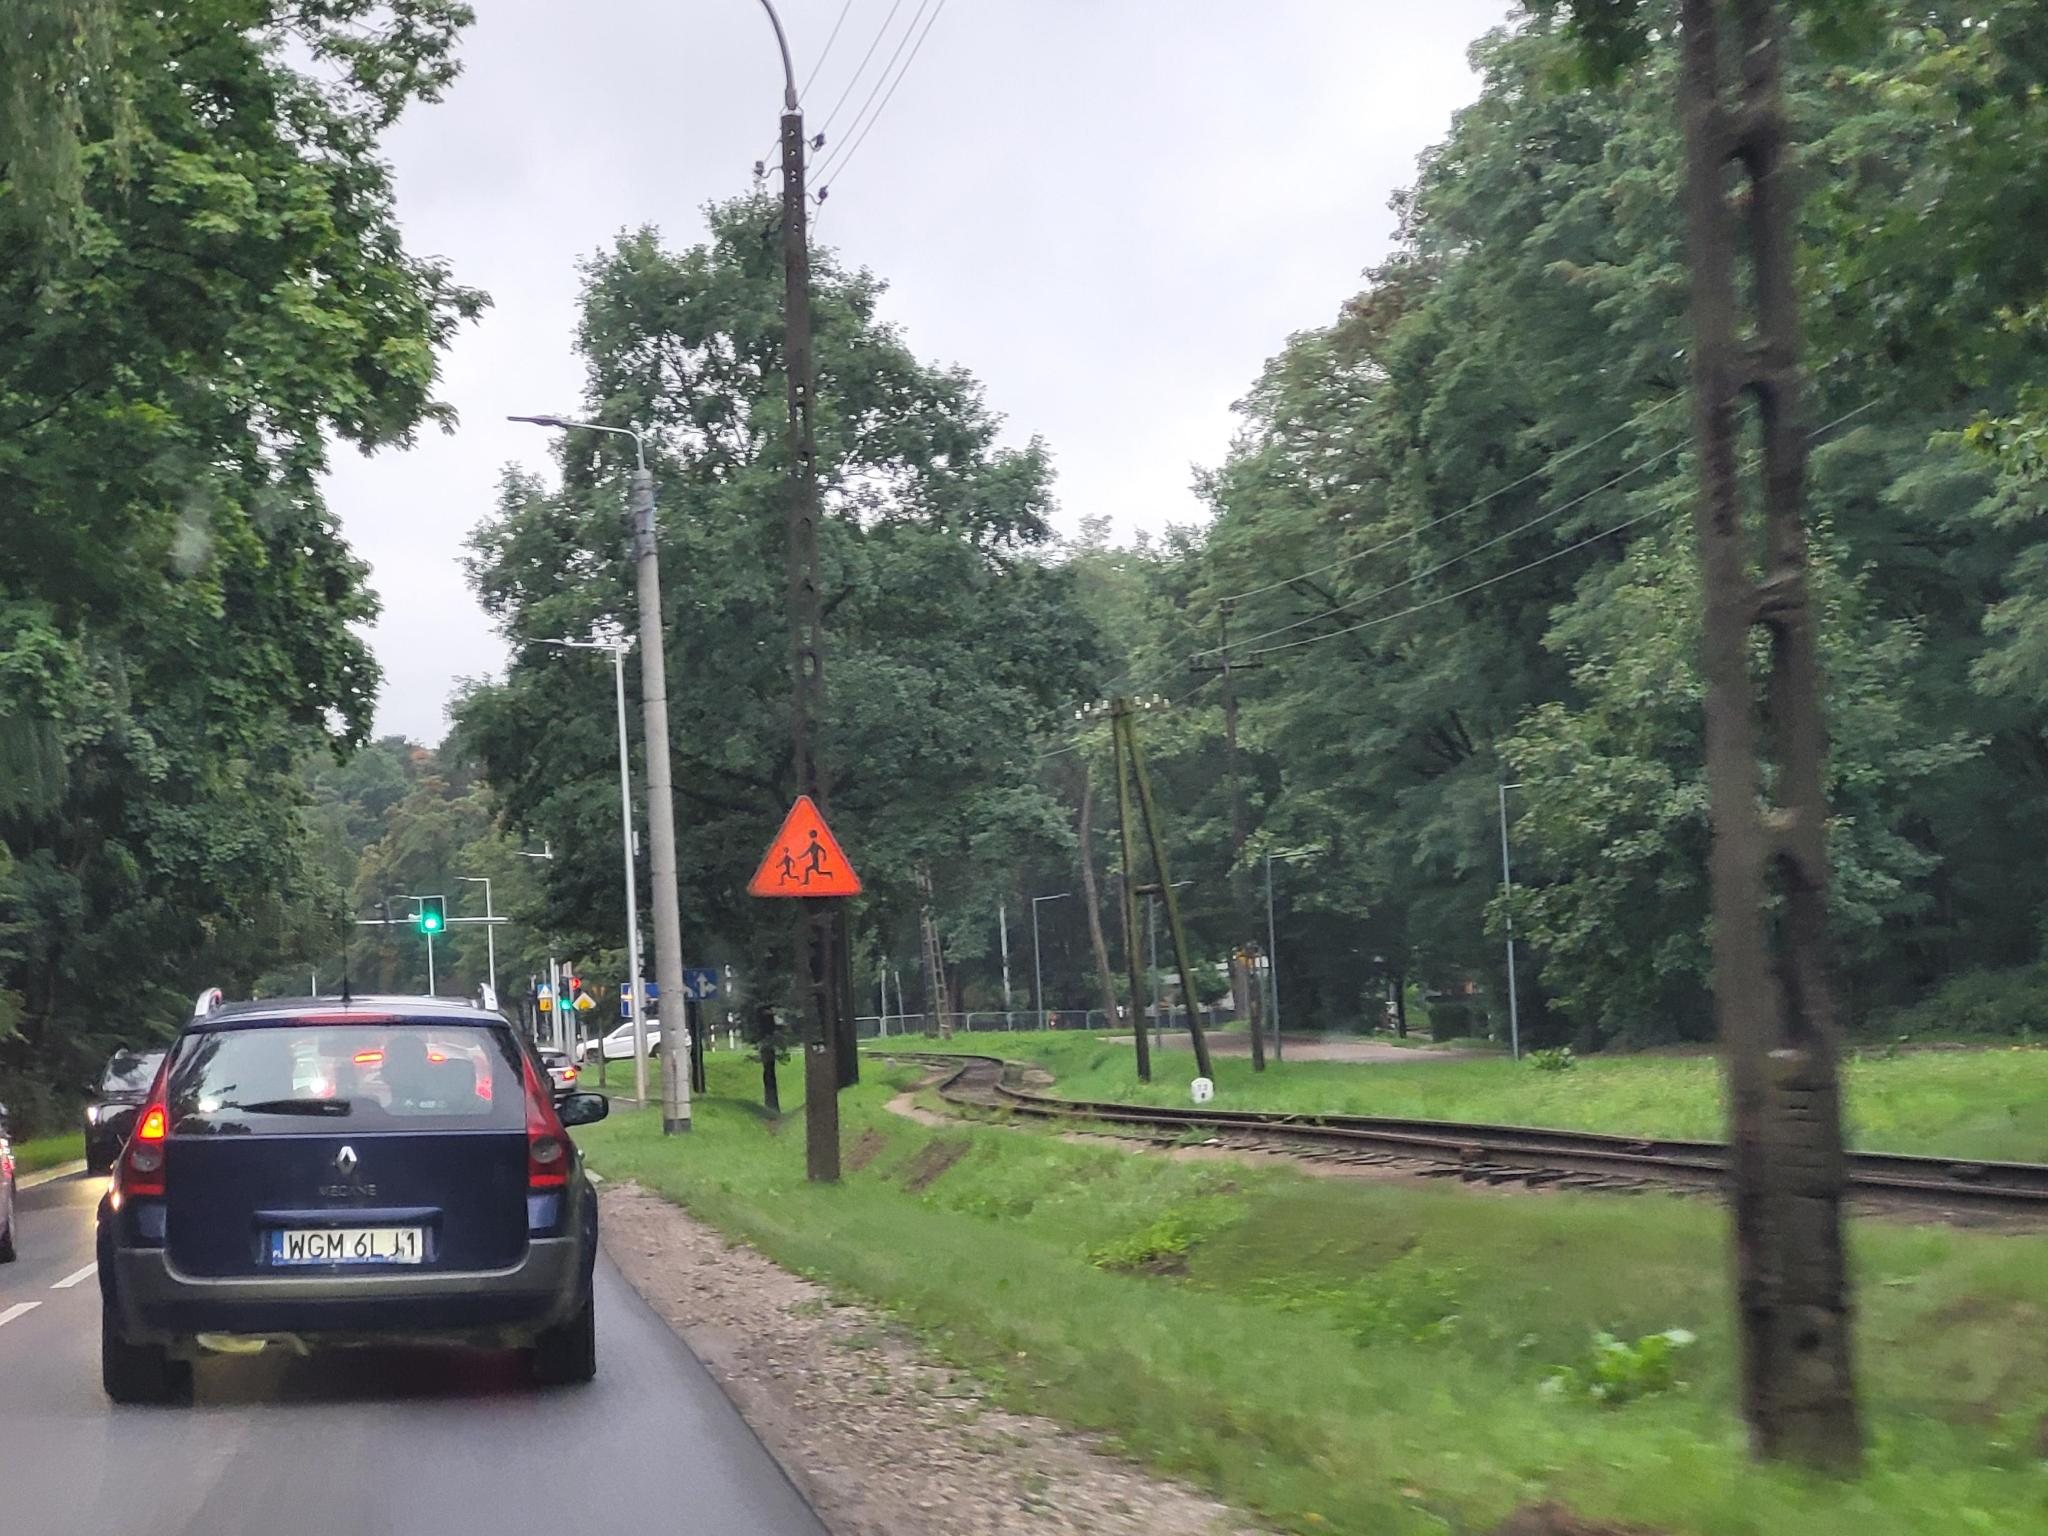information: (571, 992, 598, 1016), (537, 983, 555, 999), (539, 999, 553, 1012)
other: (666, 968, 721, 1000)
warning: (748, 794, 863, 899)
